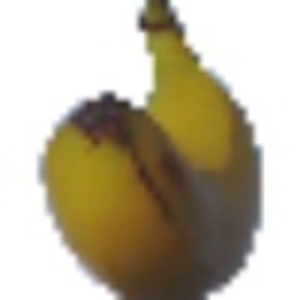banana: (39, 1, 267, 297)
